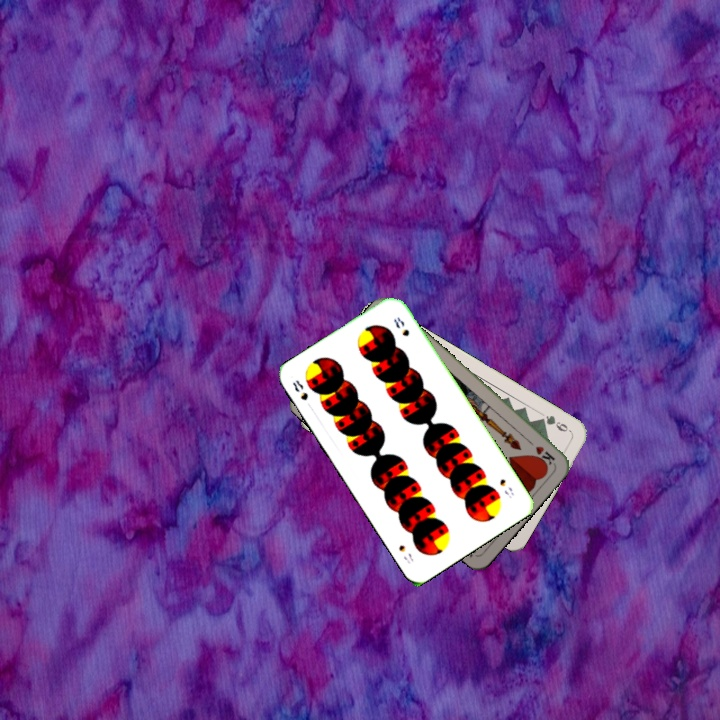G9: (535, 411, 574, 435)
HK: (523, 435, 557, 468)
S8: (288, 376, 311, 403), (495, 475, 517, 501)
